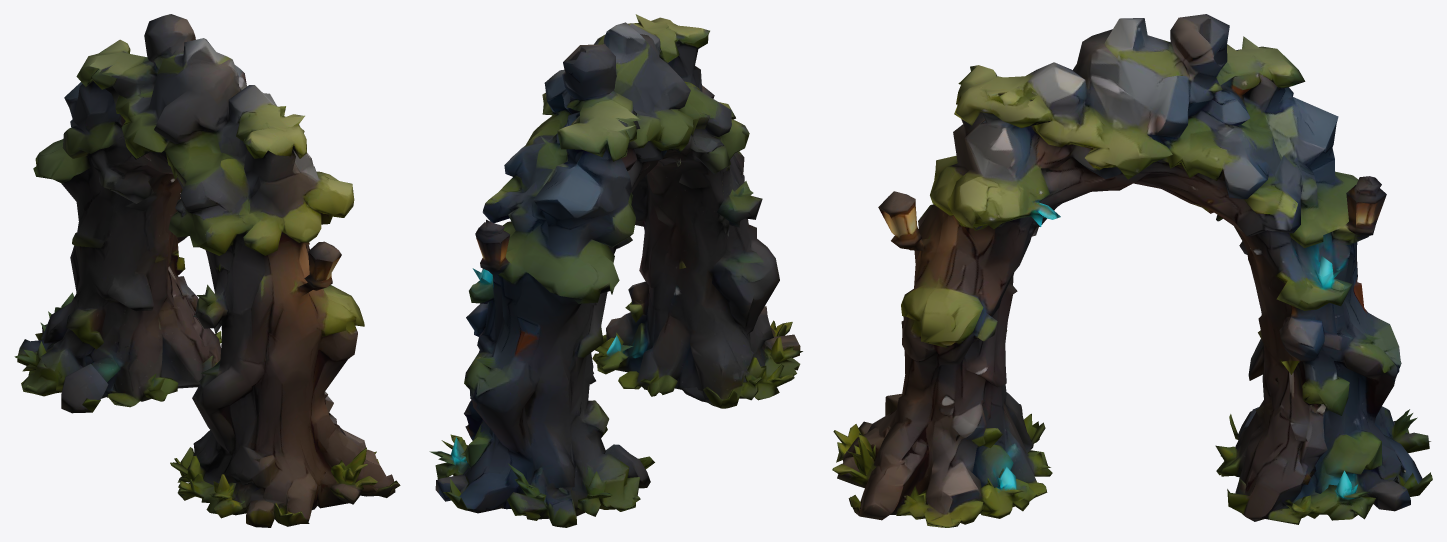
Rendered from mesh_root_arch_tripo.glb.
3 views of the same model, side by side, from view 1: azimuth 30°, elevation 25°; view 2: azimuth 150°, elevation 25°; view 3: azimuth 270°, elevation 25° (orthographic). The views are drawn at different scales.
Parts seen in each view (by area): view 1: tripo_node_db7ca93b-fc86-445a-ac6c-3b5ebfa8d2b8; view 2: tripo_node_db7ca93b-fc86-445a-ac6c-3b5ebfa8d2b8; view 3: tripo_node_db7ca93b-fc86-445a-ac6c-3b5ebfa8d2b8.
Boxes of the visible parts, left/top/right/bottom form: tripo_node_db7ca93b-fc86-445a-ac6c-3b5ebfa8d2b8: left=14, top=14, right=400, bottom=527; tripo_node_db7ca93b-fc86-445a-ac6c-3b5ebfa8d2b8: left=429, top=14, right=802, bottom=527; tripo_node_db7ca93b-fc86-445a-ac6c-3b5ebfa8d2b8: left=832, top=14, right=1432, bottom=527.
Size of the model in its own units: 0.4476 by 0.8425 by 1.
Materials: 1 (1 with a texture image).
